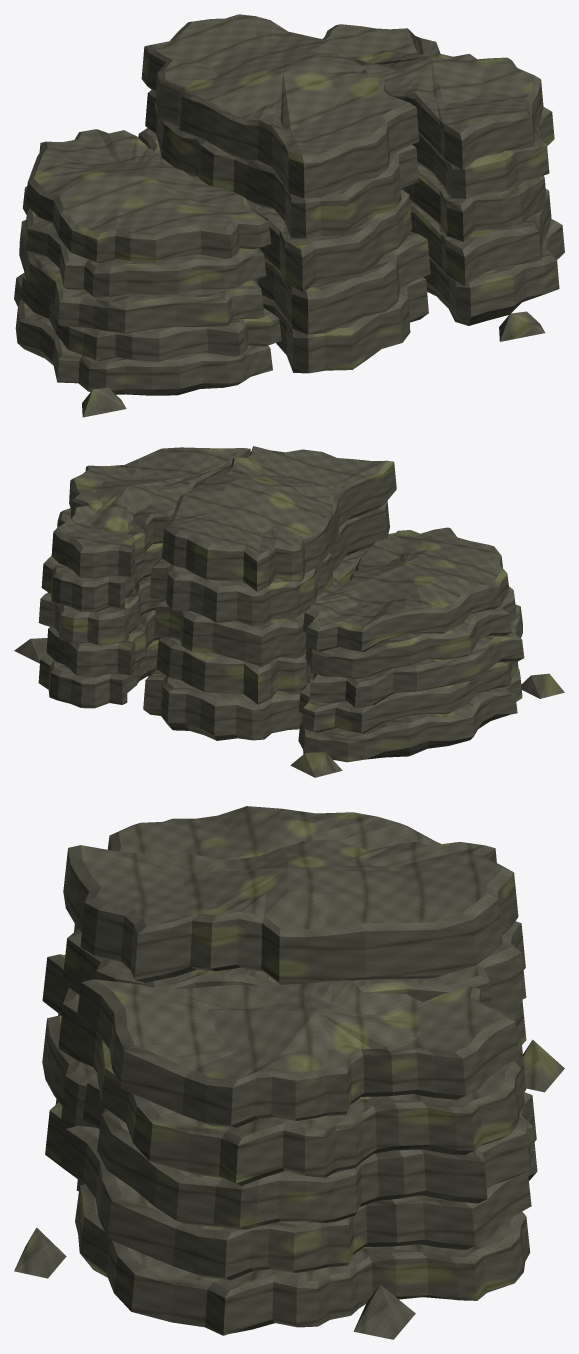
File: frontier_sunmeadow_limestone_lod0.glb
3 views of the same model, one above another, from view 1: azimuth 30°, elevation 25°; view 2: azimuth 150°, elevation 25°; view 3: azimuth 270°, elevation 25° (orthographic). The views are drawn at different scales.
Visible parts, largest first — view 1: frontier_sunmeadow_limestone_LOD0; view 2: frontier_sunmeadow_limestone_LOD0; view 3: frontier_sunmeadow_limestone_LOD0.
Part boxes in pixels (<box>): frontier_sunmeadow_limestone_LOD0: <box>14,14,564,417</box>; frontier_sunmeadow_limestone_LOD0: <box>14,446,564,777</box>; frontier_sunmeadow_limestone_LOD0: <box>14,806,564,1339</box>.
Size of the model in its own units: 5.9 by 2.44 by 3.95.
1 material, 1 textured.
